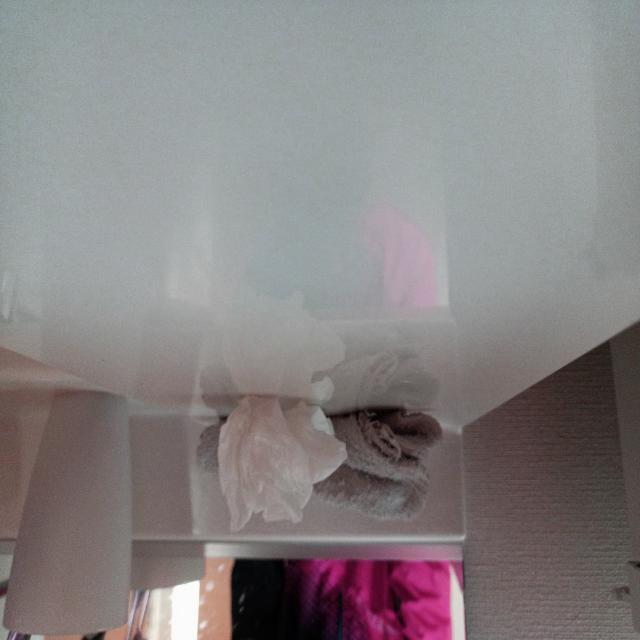Paper: (207, 374, 345, 531)
